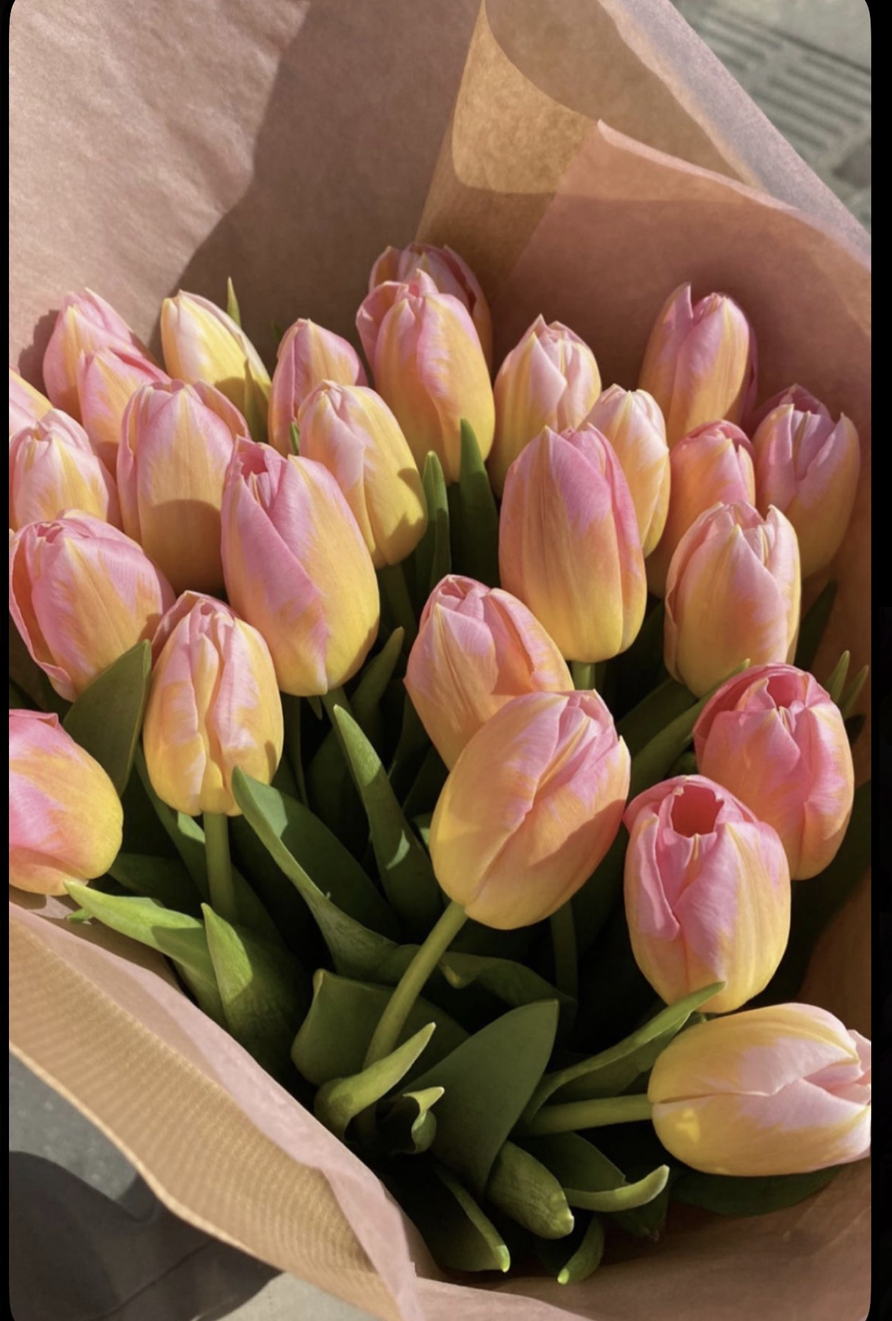tulip: (424, 676, 637, 943), (212, 427, 387, 707), (609, 768, 799, 1019), (396, 567, 587, 810), (641, 1000, 873, 1187), (4, 509, 177, 748), (684, 653, 862, 884), (139, 570, 301, 822), (491, 414, 651, 667), (105, 360, 257, 595), (345, 265, 504, 487), (655, 493, 807, 715), (288, 370, 436, 575), (8, 694, 133, 908), (631, 269, 767, 465), (629, 407, 759, 612), (39, 274, 170, 462), (737, 382, 864, 574), (359, 232, 505, 379), (150, 285, 283, 446), (487, 304, 613, 473), (568, 376, 680, 560), (8, 403, 132, 554), (268, 309, 375, 468)
